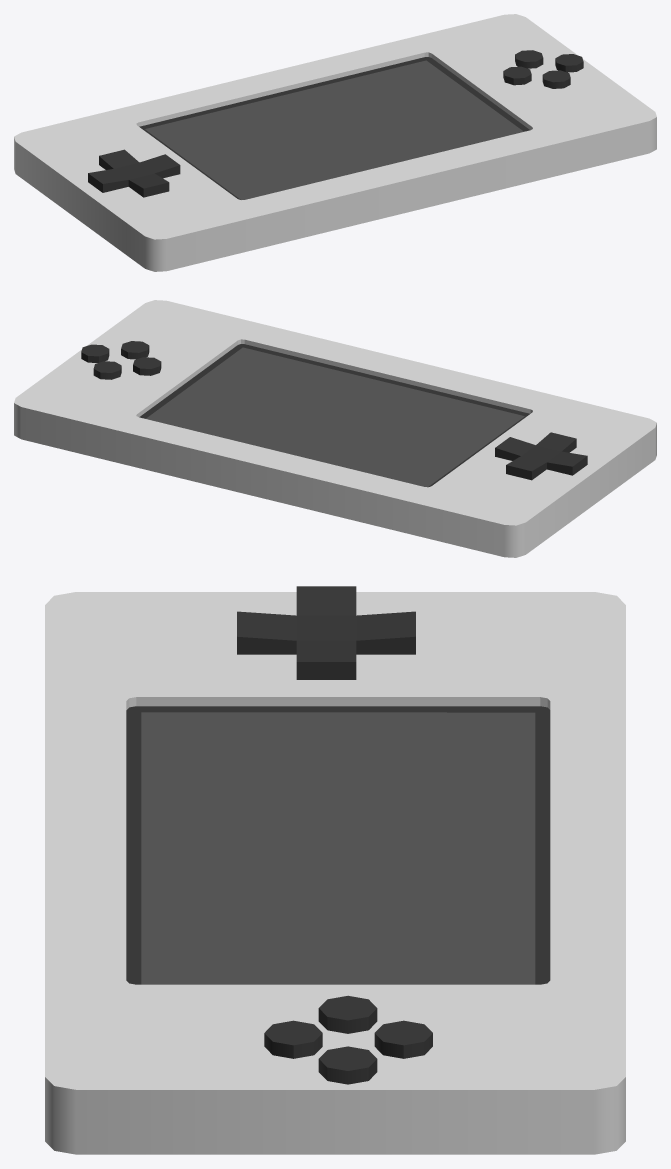
Rendered from console_3.glb.
3 views of the same model, one above another, from view 1: azimuth 30°, elevation 25°; view 2: azimuth 150°, elevation 25°; view 3: azimuth 270°, elevation 25° (orthographic). The views are drawn at different scales.
Parts seen in each view (by area): view 1: Console Mintendo DX; view 2: Console Mintendo DX; view 3: Console Mintendo DX.
Part boxes in pixels (<box>): Console Mintendo DX: <box>14,14,656,271</box>; Console Mintendo DX: <box>14,300,656,557</box>; Console Mintendo DX: <box>45,586,625,1154</box>.
Size of the model in its own units: 0.282 by 0.0219 by 0.1391.
1 material, 1 textured.
